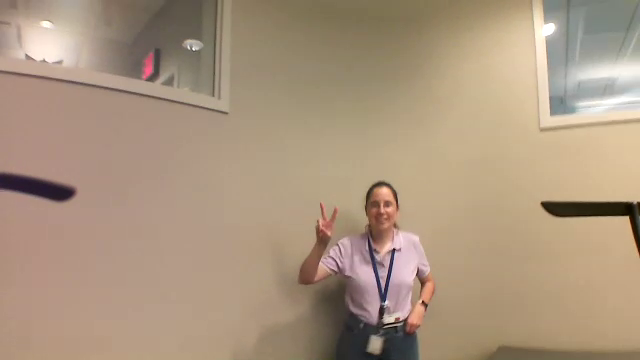peace: (306, 196, 342, 245)
